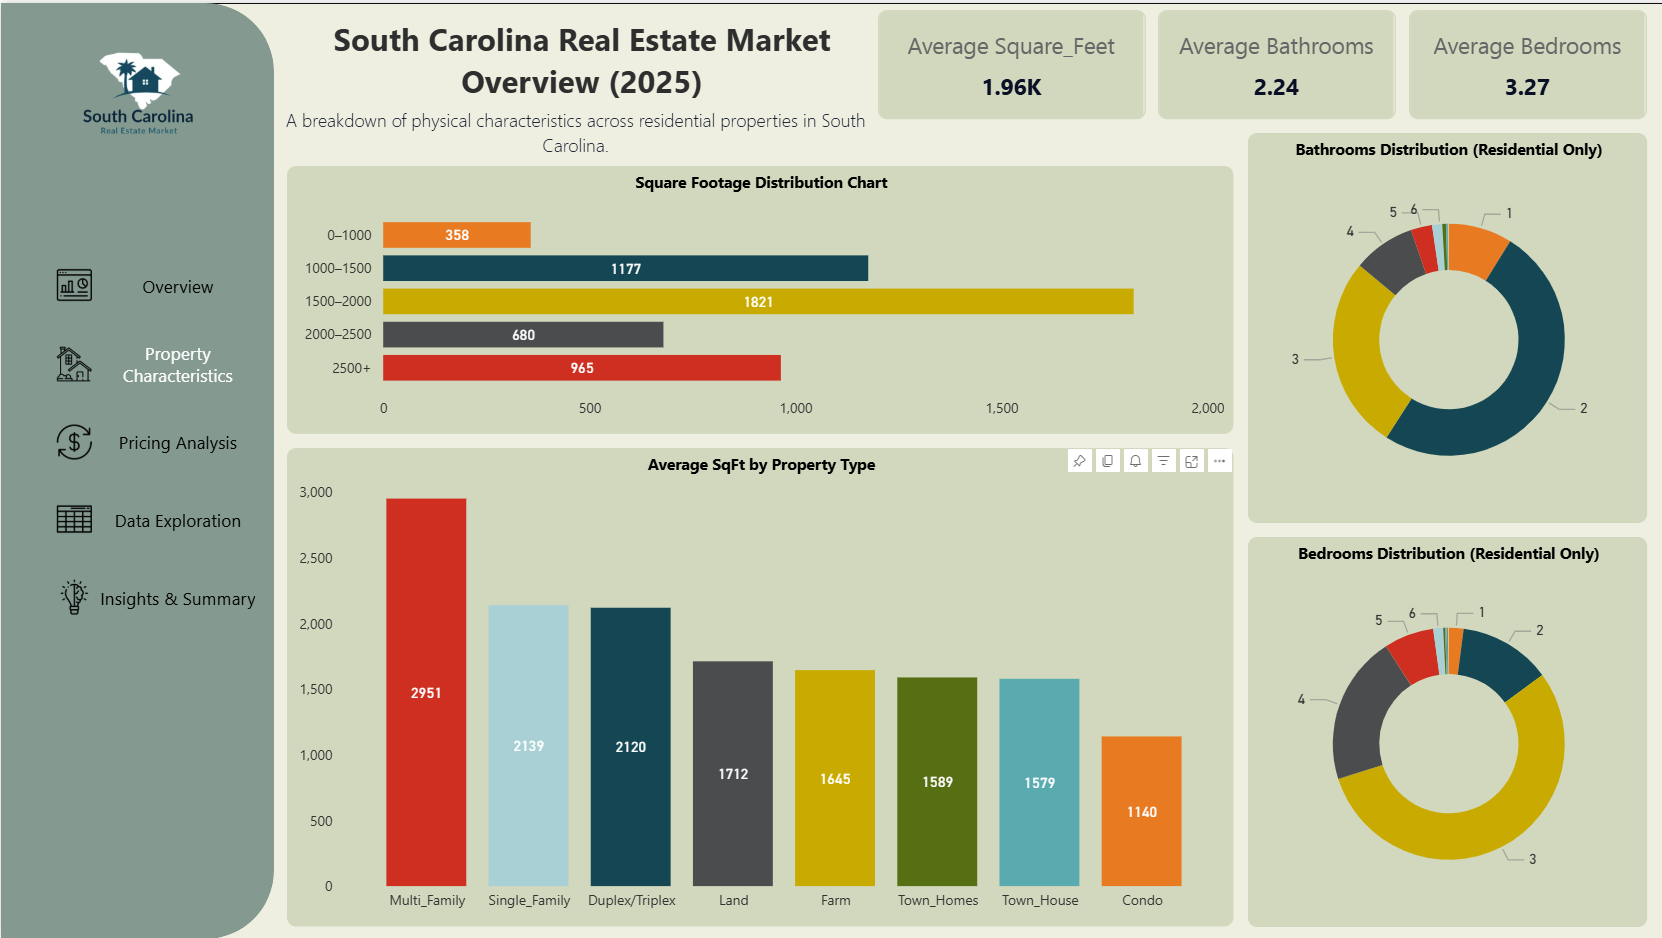

Layout of this report page (visuals, bound fields, positions):
{"tool":"powerbi","page":{"name":"Property Characteristics","canvas":[1280,720],"ordinal":1},"visuals":[{"type":"shape","box":[0,0,210,720],"z":0},{"type":"pageNavigator","box":[74.3,192.1,123.6,291.4],"z":1000},{"type":"image","box":[37,438.6,39.3,37.1],"z":2000},{"type":"image","box":[37,259.3,39.3,37.1],"z":3000},{"type":"image","box":[37,378.6,39.3,37.1],"z":4000},{"type":"image","box":[37,198.6,39.3,37.1],"z":5000},{"type":"image","box":[37,319.3,39.3,37.1],"z":6000},{"type":"image","box":[0,0,210,141.4],"z":7000},{"type":"cardVisual","fields":{"Data":["realestate_data_southcarolina_2025.Average Bedrooms"]},"box":[1082.9,5.7,182.9,84.3],"z":8000},{"type":"cardVisual","fields":{"Data":["realestate_data_southcarolina_2025.Average Bathrooms"]},"box":[890,5.7,182.9,84.3],"z":9000},{"type":"cardVisual","fields":{"Data":["realestate_data_southcarolina_2025.Average Square_Feet"]},"box":[674.3,5.7,205.7,84.3],"z":10000},{"type":"donutChart","title":"Bedrooms Distribution (Residential Only)","fields":{"Category":["realestate_data_southcarolina_2025.Bedrooms"],"Y":["CountNonNull(realestate_data_southcarolina_2025.Bedrooms)"]},"box":[959,411,307,300],"z":11000},{"type":"donutChart","title":"Bathrooms Distribution (Residential Only)","fields":{"Category":["realestate_data_southcarolina_2025.Bathrooms"],"Y":["CountNonNull(realestate_data_southcarolina_2025.Bathrooms)"]},"box":[959,100,307,300],"z":12000},{"type":"textbox","box":[220,6,454,84],"z":13000},{"type":"textbox","box":[210,75,464,50],"z":14000},{"type":"barChart","title":"Square Footage Distribution Chart","fields":{"Category":["realestate_data_southcarolina_2025.SqFt_Bin"],"Y":["CountNonNull(realestate_data_southcarolina_2025.SqFt_Bin)"],"Series":["realestate_data_southcarolina_2025.SqFt_Bin"]},"box":[220,125,728,206],"z":15000},{"type":"columnChart","title":"Average SqFt by Property Type","fields":{"Series":["realestate_data_southcarolina_2025.Property_Type"],"Category":["realestate_data_southcarolina_2025.Property_Type"],"Y":["realestate_data_southcarolina_2025.Average Square_Feet"]},"box":[220,342,728,368],"z":16000}]}

Visuals, with their boxes in screenshot pixels (x1, y1, x2, y2), scaled from the page's 1280x720 canvas onto the 1662x938 screenshot:
shape: select_region(0, 0, 273, 937)
pageNavigator: select_region(96, 250, 257, 630)
image: select_region(48, 571, 99, 620)
image: select_region(48, 338, 99, 386)
image: select_region(48, 493, 99, 542)
image: select_region(48, 259, 99, 307)
image: select_region(48, 416, 99, 464)
image: select_region(0, 0, 273, 184)
cardVisual - realestate_data_southcarolina_2025.Average Bedrooms: select_region(1406, 7, 1644, 117)
cardVisual - realestate_data_southcarolina_2025.Average Bathrooms: select_region(1156, 7, 1393, 117)
cardVisual - realestate_data_southcarolina_2025.Average Square_Feet: select_region(876, 7, 1143, 117)
"Bedrooms Distribution (Residential Only)" donutChart: select_region(1245, 535, 1644, 926)
"Bathrooms Distribution (Residential Only)" donutChart: select_region(1245, 130, 1644, 521)
textbox: select_region(286, 8, 875, 117)
textbox: select_region(273, 98, 875, 163)
"Square Footage Distribution Chart" barChart: select_region(286, 163, 1231, 431)
"Average SqFt by Property Type" columnChart: select_region(286, 446, 1231, 925)
